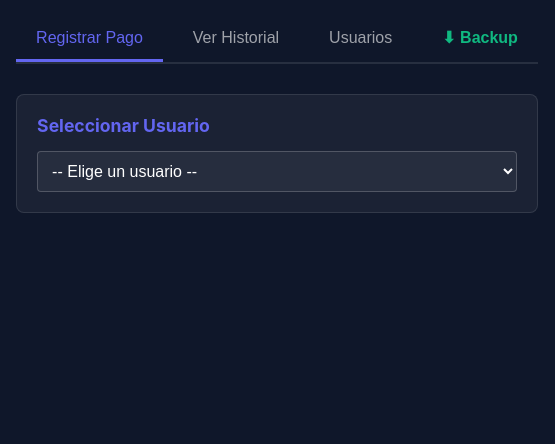
Test: AdminPayments › switches to view mode when Ver Historial is clicked
Click the button "Ver Historial" at (236,39), box [173,16,299,62]
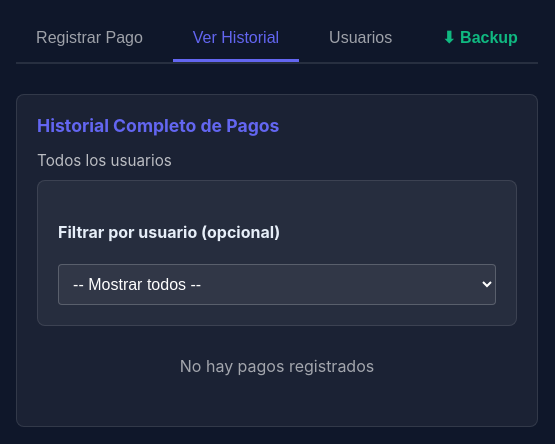
Check: the heading "Historial Completo de Pagos" is shown, box [37,115,279,136]
